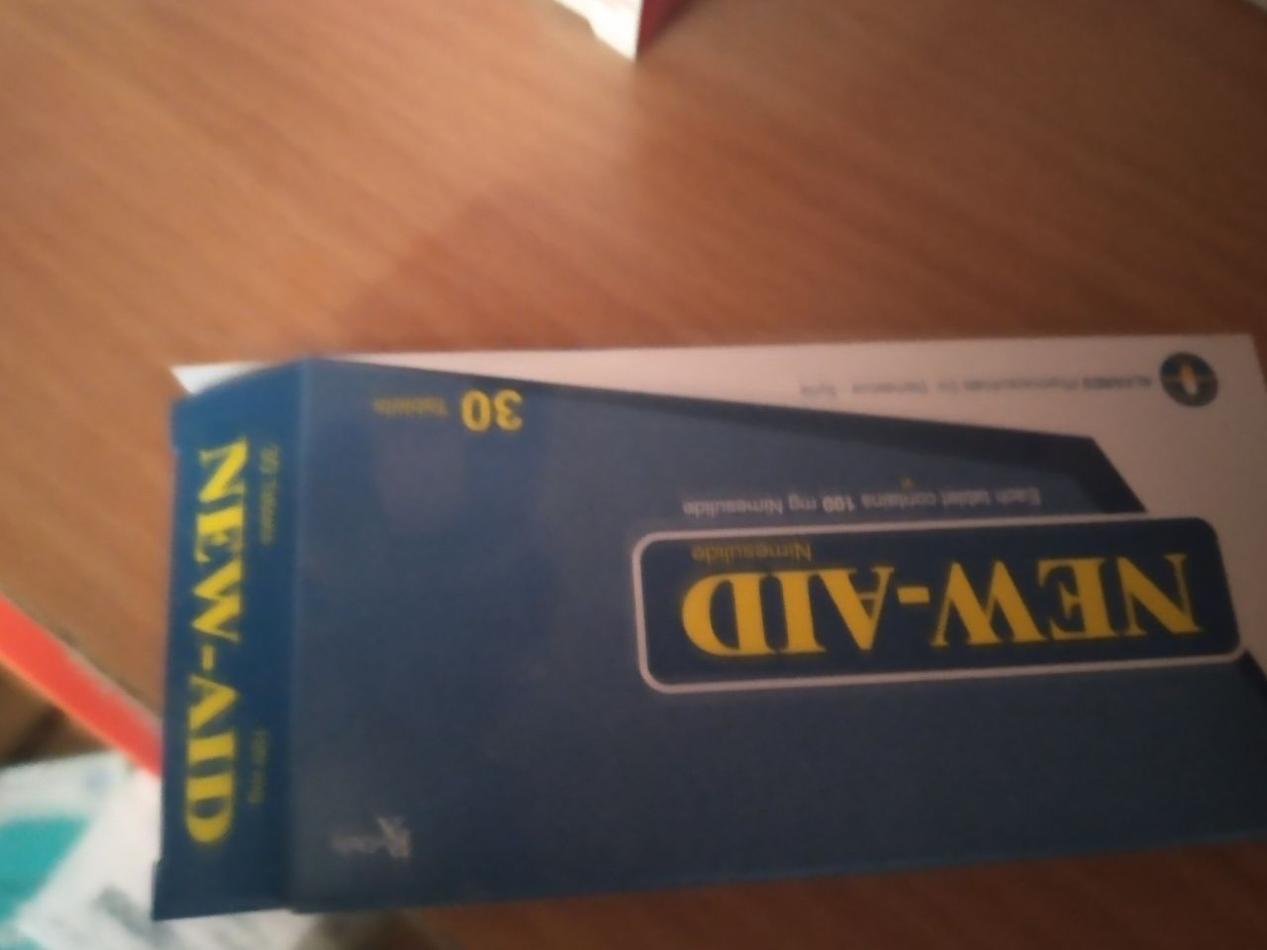Medicine: (255, 309, 1267, 910)
